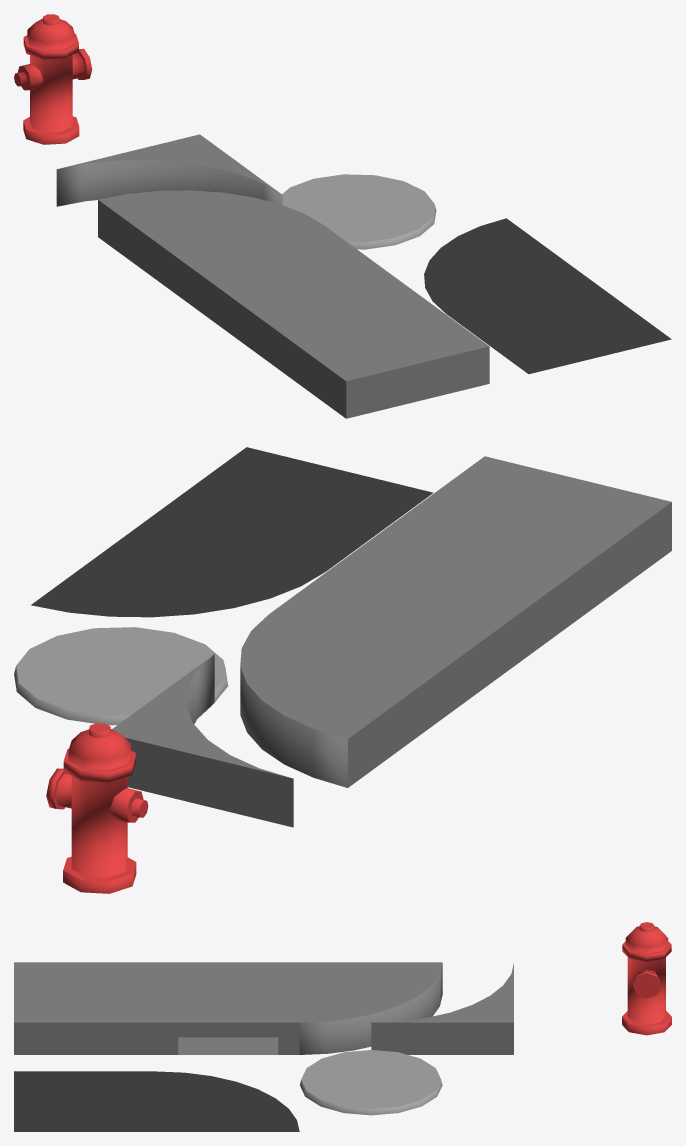
File: street_props 1.fbx
3 views of the same model, one above another, from view 1: azimuth 30°, elevation 25°; view 2: azimuth 150°, elevation 25°; view 3: azimuth 270°, elevation 25° (orthographic). The views are drawn at different scales.
Visible parts, largest first — view 1: Bordstein_1, Bordstein_2, Bordstein_3, Street_1, Street_2, Bordstein_4, Cover, Hydrant; view 2: Bordstein_3, Bordstein_1, Bordstein_2, Street_1, Street_2, Cover, Bordstein_4, Hydrant; view 3: Bordstein_2, Bordstein_1, Bordstein_3, Street_1, Cover, Street_2, Bordstein_4, Hydrant.
Part boxes in pixels (left/top/right/bottom): Bordstein_1: left=263, top=286, right=489, bottom=418; Bordstein_2: left=180, top=225, right=406, bottom=357; Bordstein_3: left=98, top=190, right=323, bottom=297; Street_1: left=446, top=279, right=671, bottom=374; Street_2: left=424, top=218, right=588, bottom=313; Bordstein_4: left=56, top=134, right=282, bottom=206; Cover: left=282, top=174, right=436, bottom=249; Hydrant: left=14, top=14, right=92, bottom=144; Bordstein_3: left=240, top=614, right=455, bottom=787; Bordstein_1: left=377, top=456, right=671, bottom=629; Bordstein_2: left=269, top=535, right=563, bottom=708; Street_1: left=139, top=447, right=433, bottom=571; Street_2: left=31, top=526, right=325, bottom=617; Cover: left=14, top=627, right=228, bottom=725; Bordstein_4: left=112, top=654, right=293, bottom=827; Hydrant: left=46, top=723, right=148, bottom=893; Bordstein_2: left=157, top=962, right=299, bottom=1054; Bordstein_1: left=14, top=962, right=156, bottom=1054; Bordstein_3: left=299, top=962, right=442, bottom=1054; Street_1: left=14, top=1071, right=156, bottom=1131; Cover: left=300, top=1050, right=442, bottom=1115; Street_2: left=157, top=1071, right=299, bottom=1131; Bordstein_4: left=371, top=963, right=513, bottom=1054; Hydrant: left=622, top=922, right=671, bottom=1035.
Bounding box in the file's own units: 455 × 154 × 921.
